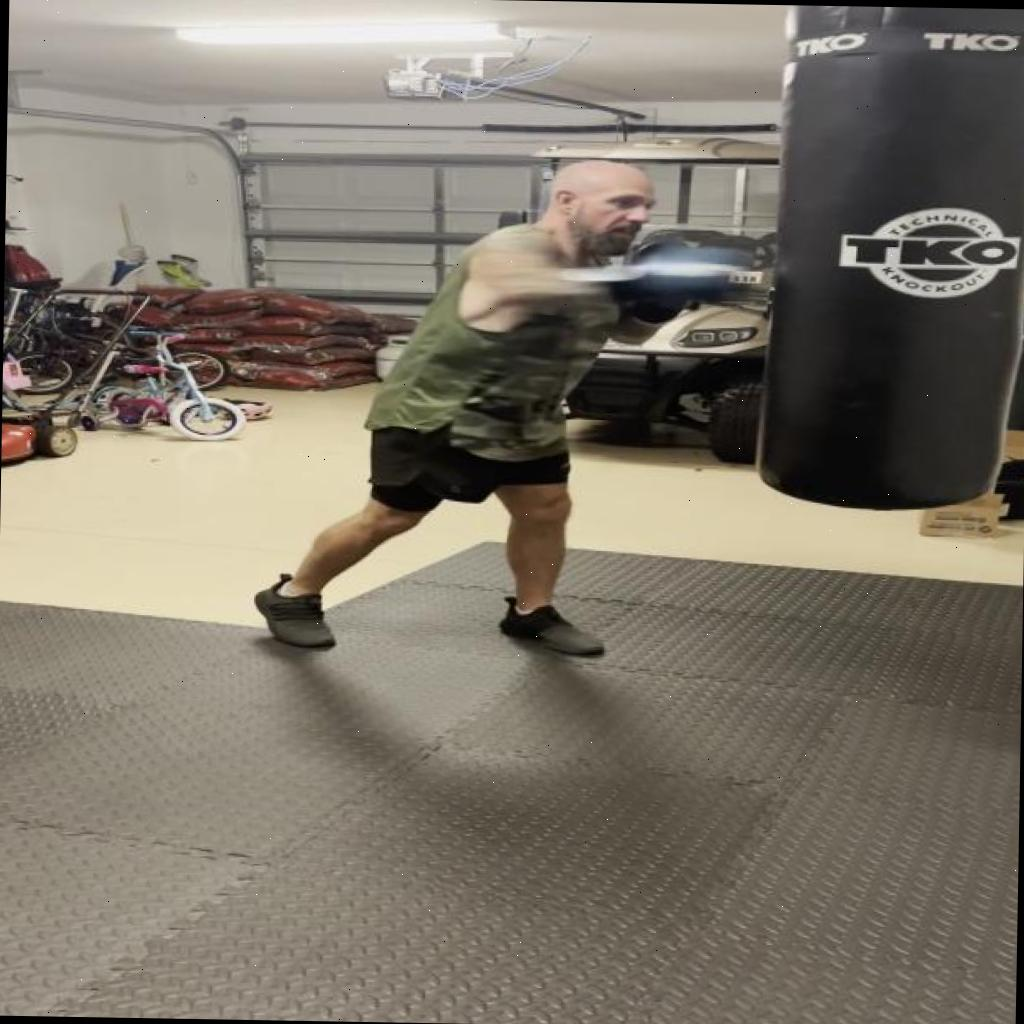bag: (755, 4, 1024, 519)
cross: (421, 146, 810, 340)
